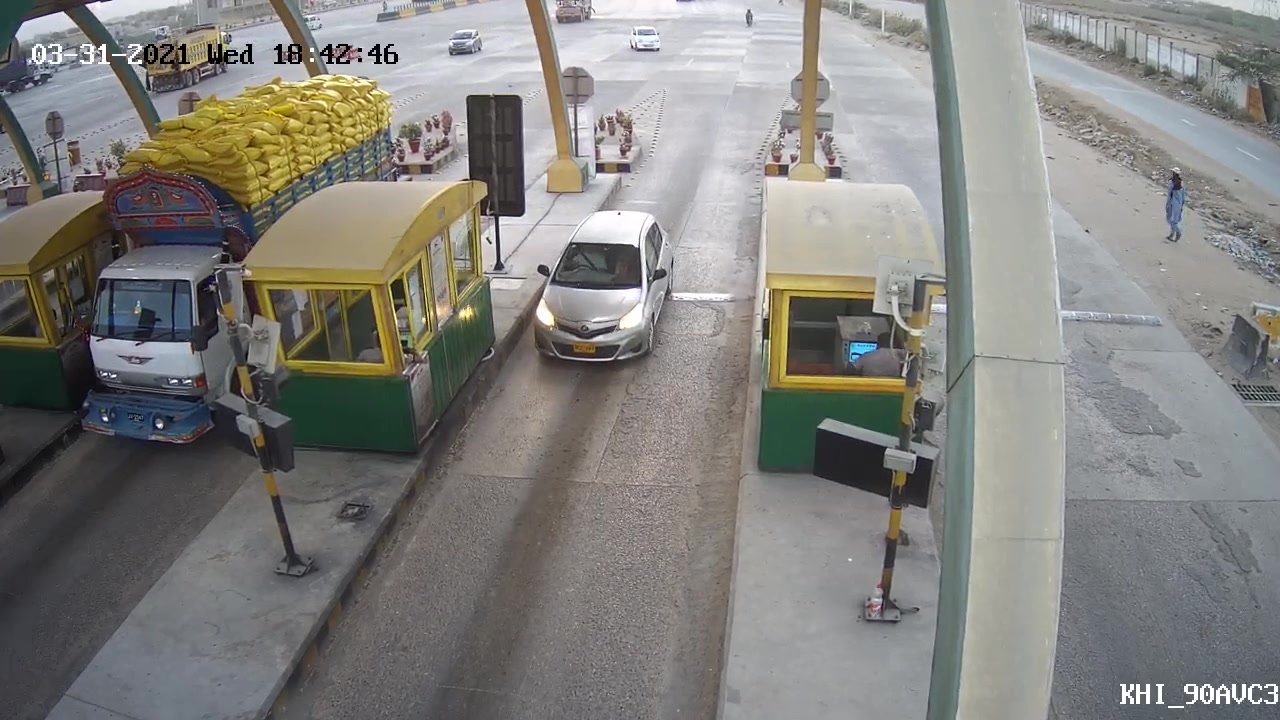F1: (520, 208, 689, 370)
